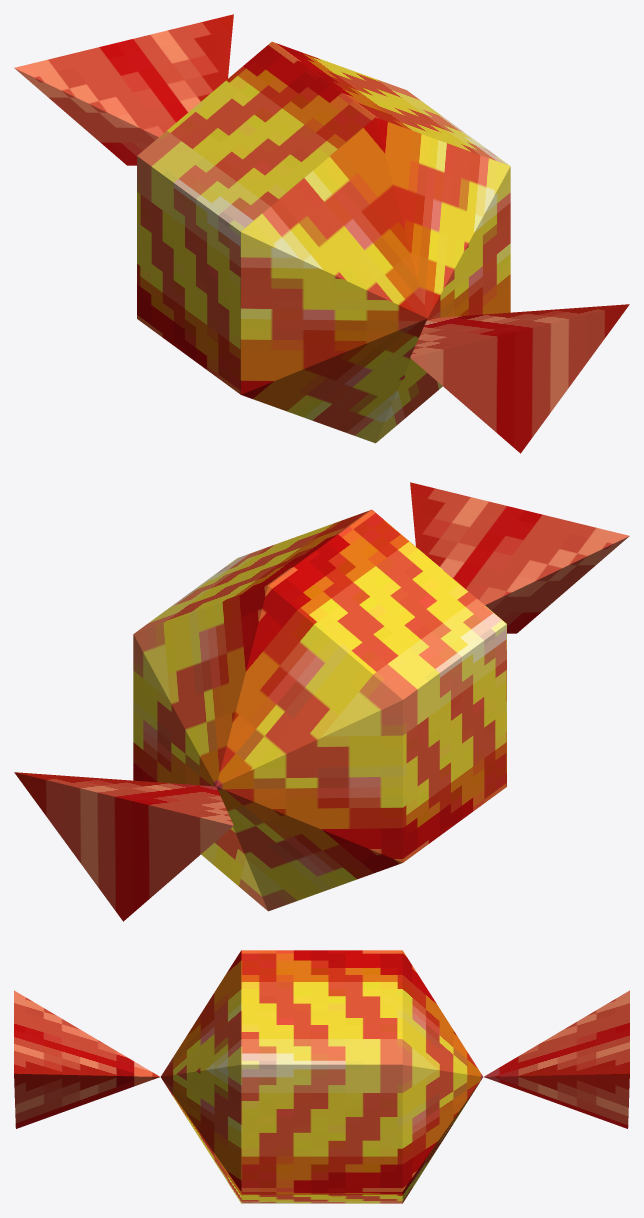
File: Dulce.fbx
3 renders of one model, top to bottom at view 1: azimuth 30°, elevation 25°; view 2: azimuth 150°, elevation 25°; view 3: azimuth 270°, elevation 25°, orthographic. The views are drawn at different scales.
Parts seen in each view (by area): view 1: Sphere; view 2: Sphere; view 3: Sphere.
Part boxes in pixels (x1,y1,x2,y2): Sphere: [14, 14, 629, 453]; Sphere: [14, 482, 629, 921]; Sphere: [14, 950, 629, 1203].
Size of the model in its own units: 150 by 173 by 382.
Materials: 1 (1 with a texture image).
